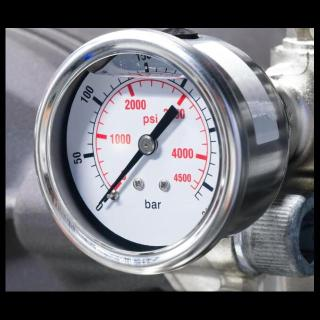gauge: (4, 27, 268, 291), (91, 185, 121, 213), (186, 183, 206, 207), (136, 134, 156, 154), (95, 196, 105, 208)
